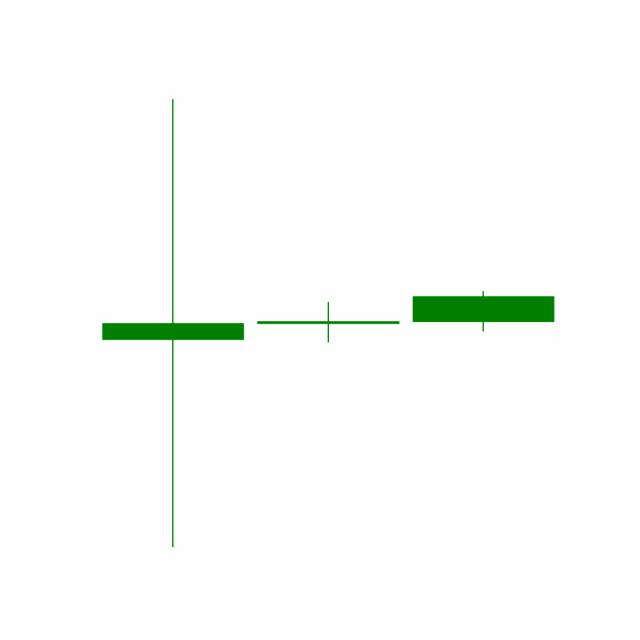Spinning Top: (249, 300, 406, 343)
